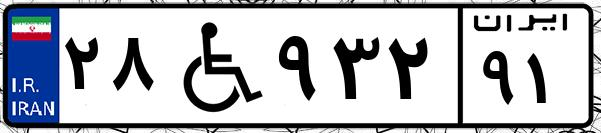1: (525, 38, 570, 115)
2: (385, 28, 445, 110), (57, 26, 110, 100)
3: (330, 28, 385, 110)
8: (110, 28, 158, 98)
9: (270, 28, 330, 110), (475, 38, 525, 113)
ژ (معلولین و جانبازان): (158, 12, 270, 120)
